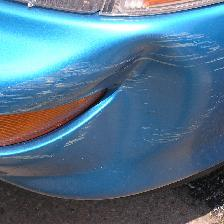dent: (73, 43, 217, 84)
